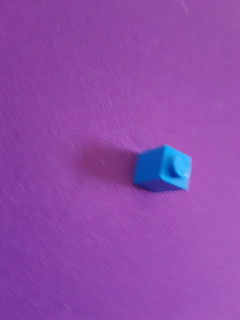1x1 blue: (130, 142, 195, 196)
